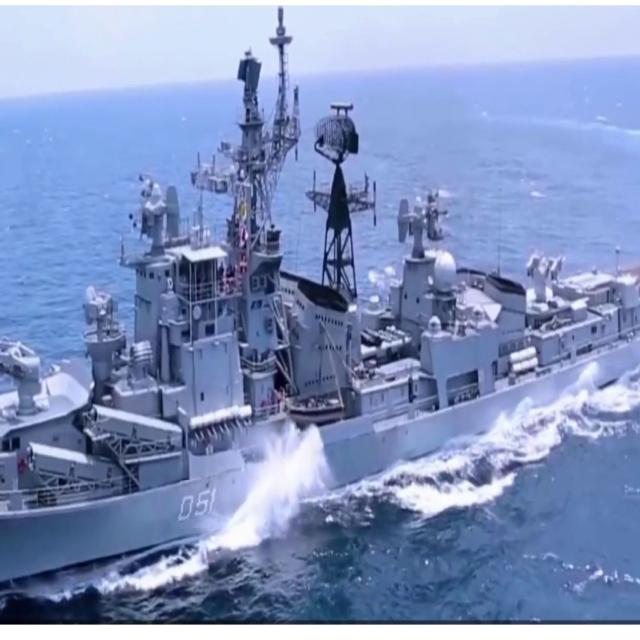OCR: (171, 480, 222, 530)
